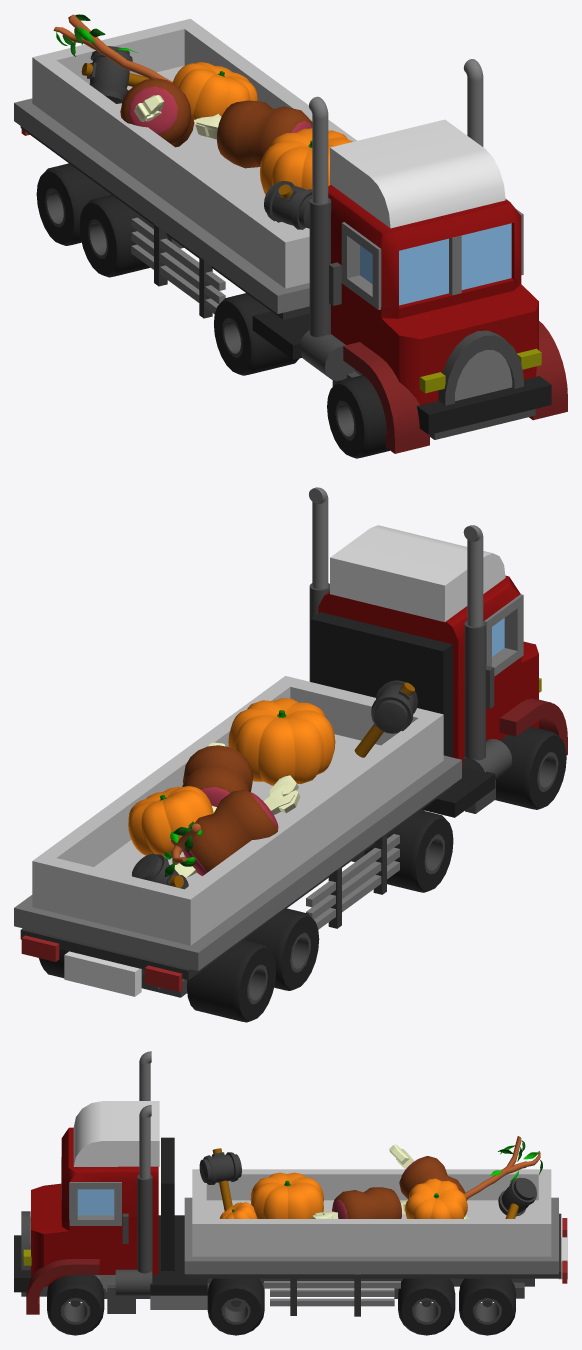
File: track2.obj
The picture shows the model from 3 angles, top to bottom: view 1: azimuth 30°, elevation 25°; view 2: azimuth 150°, elevation 25°; view 3: azimuth 270°, elevation 25°; orthographic projection. The views are drawn at different scales.
Parts seen in each view (by area): view 1: pCube78, polySurface2, pCube43, pCube85, pCube79, group3 meet_and_bone:pCylinder1, pCube72, pCube42, pPipe15, pPipe5, pPipe7, group6 pSphere1 (+27 smaller); view 2: pCube78, pCube85, pCube43, pCube47, polySurface2, group1 pumpkin:pSphere1, pPipe11, group5 pCylinder1, pPipe5, group6 pSphere1, pPipe7, pPipe15 (+18 smaller); view 3: pCube78, polySurface2, pCube85, pCube43, group1 pumpkin:pSphere1, pPipe1, pPipe3, pPipe13, pPipe9, group6 pSphere1, pCube13, pCube48 (+26 smaller).
Boxes of the visible parts, <box> form: pCube78: <box>32,18,356,288</box>; polySurface2: <box>328,184,538,404</box>; pCube43: <box>330,119,505,228</box>; pCube85: <box>14,98,309,313</box>; pCube79: <box>360,223,511,305</box>; group3 meet_and_bone:pCylinder1: <box>217,100,312,168</box>; pCube72: <box>343,342,429,453</box>; pCube42: <box>416,376,551,434</box>; pPipe15: <box>79,195,168,277</box>; pPipe5: <box>327,375,389,458</box>; pPipe7: <box>214,293,299,375</box>; group6 pSphere1: <box>172,62,257,123</box>; pCube78: <box>32,676,443,945</box>; pCube85: <box>14,755,461,970</box>; pCube43: <box>330,525,505,621</box>; pCube47: <box>310,612,452,757</box>; polySurface2: <box>318,575,538,767</box>; group1 pumpkin:pSphere1: <box>228,698,335,785</box>; pPipe11: <box>187,940,276,1022</box>; group5 pCylinder1: <box>190,790,277,872</box>; pPipe5: <box>495,726,566,809</box>; group6 pSphere1: <box>128,786,213,856</box>; pPipe7: <box>364,810,453,892</box>; pPipe15: <box>244,908,319,990</box>; pCube78: <box>192,1169,551,1256</box>; polySurface2: <box>31,1127,158,1286</box>; pCube85: <box>184,1197,558,1274</box>; pCube43: <box>73,1101,159,1166</box>; group1 pumpkin:pSphere1: <box>250,1172,323,1218</box>; pPipe1: <box>47,1275,104,1335</box>; pPipe3: <box>207,1278,264,1335</box>; pPipe13: <box>398,1278,455,1335</box>; pPipe9: <box>459,1278,515,1335</box>; group6 pSphere1: <box>405,1178,467,1218</box>; pCube13: <box>150,1215,207,1295</box>; pCube48: <box>188,1213,561,1278</box>.
Bounding box in the file's own units: 2.89 × 4.3 × 9.67.
